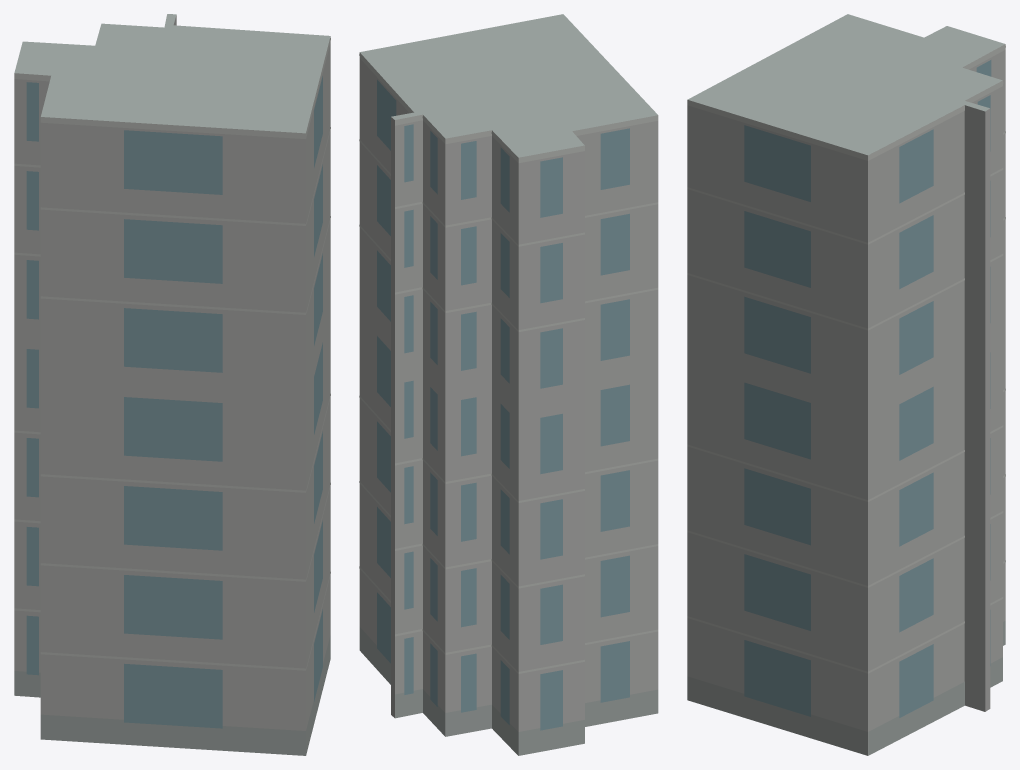
Rendered from survey-upis-32516378.glb.
3 renders of one model, left to right at view 1: azimuth 30°, elevation 25°; view 2: azimuth 150°, elevation 25°; view 3: azimuth 270°, elevation 25°, orthographic. The views are drawn at different scales.
Parts seen in each view (by area): view 1: survey-upis-32516378.tmp; view 2: survey-upis-32516378.tmp; view 3: survey-upis-32516378.tmp.
Part boxes in pixels (bbox=[...]): survey-upis-32516378.tmp: bbox=[14, 14, 330, 755]; survey-upis-32516378.tmp: bbox=[359, 14, 658, 755]; survey-upis-32516378.tmp: bbox=[687, 14, 1005, 755].
Size of the model in its own units: 13.21 by 26.11 by 12.56.
